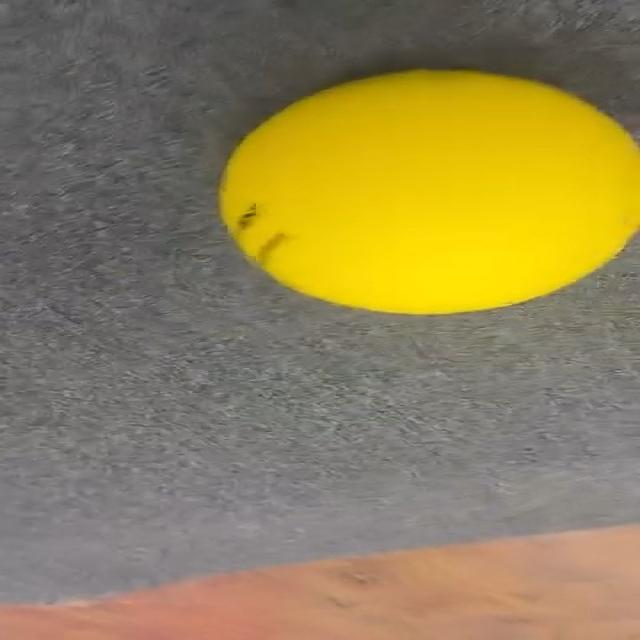Fuels: (218, 67, 640, 311)
